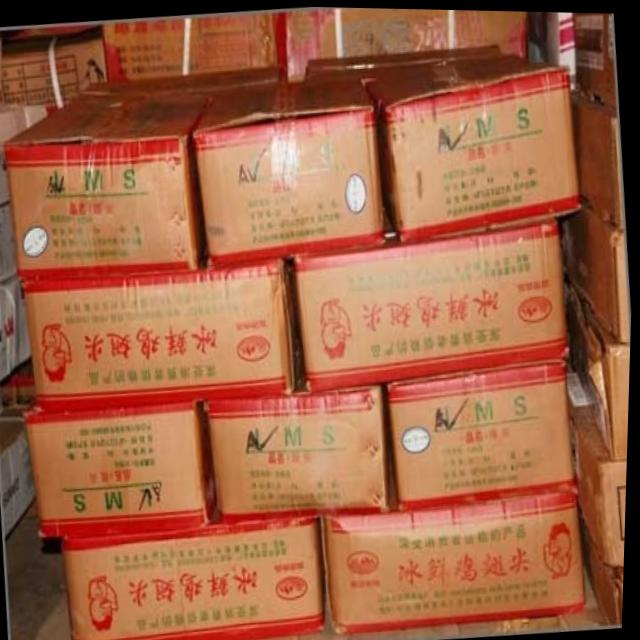box: (322, 441, 591, 634), (291, 208, 572, 390), (21, 247, 304, 409), (354, 52, 585, 240), (3, 91, 213, 280), (190, 72, 388, 267), (63, 506, 328, 640), (383, 355, 580, 507), (26, 397, 220, 537), (207, 380, 392, 522), (273, 6, 527, 80), (569, 355, 630, 566), (103, 8, 278, 81), (566, 275, 632, 456), (559, 196, 632, 341), (1, 23, 109, 109), (573, 82, 625, 229), (307, 42, 500, 79), (580, 499, 627, 624), (0, 103, 48, 207), (78, 67, 284, 91), (0, 402, 36, 539), (573, 10, 617, 107), (0, 279, 32, 382), (545, 10, 578, 84), (0, 200, 19, 286), (4, 358, 38, 406)
